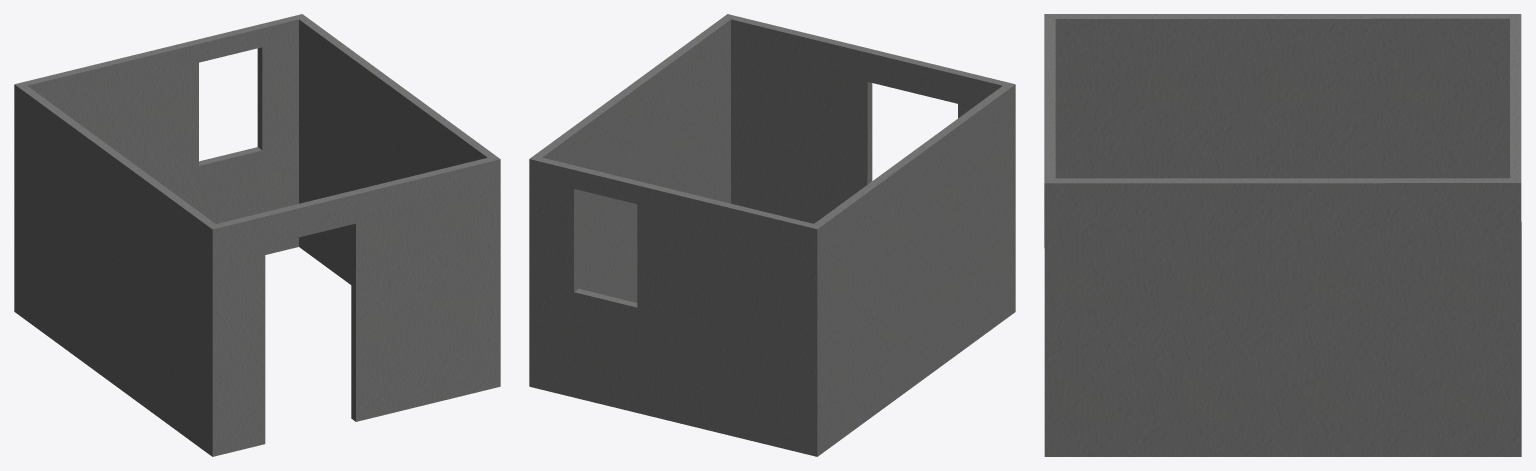
Rendered from FP414:Walls_c6829f2f.obj.
The picture shows the model from 3 angles, left to right: view 1: azimuth 30°, elevation 25°; view 2: azimuth 150°, elevation 25°; view 3: azimuth 270°, elevation 25°; orthographic projection. The views are drawn at different scales.
Parts seen in each view (by area): view 1: FP414:Walls_c6829f2f; view 2: FP414:Walls_c6829f2f; view 3: FP414:Walls_c6829f2f.
Part boxes in pixels (x1,y1,x2,y2): FP414:Walls_c6829f2f: [14, 14, 500, 456]; FP414:Walls_c6829f2f: [529, 14, 1015, 456]; FP414:Walls_c6829f2f: [1044, 14, 1521, 456].
Size of the model in its own units: 3.18 by 2.4 by 3.79.
